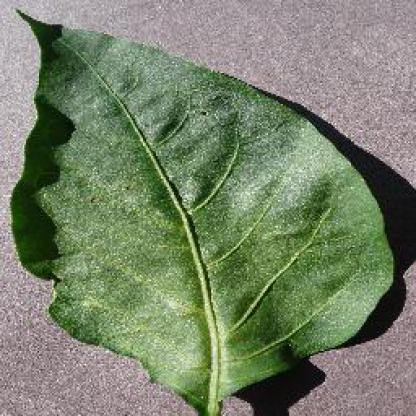bad leaf: (12, 8, 395, 415)
